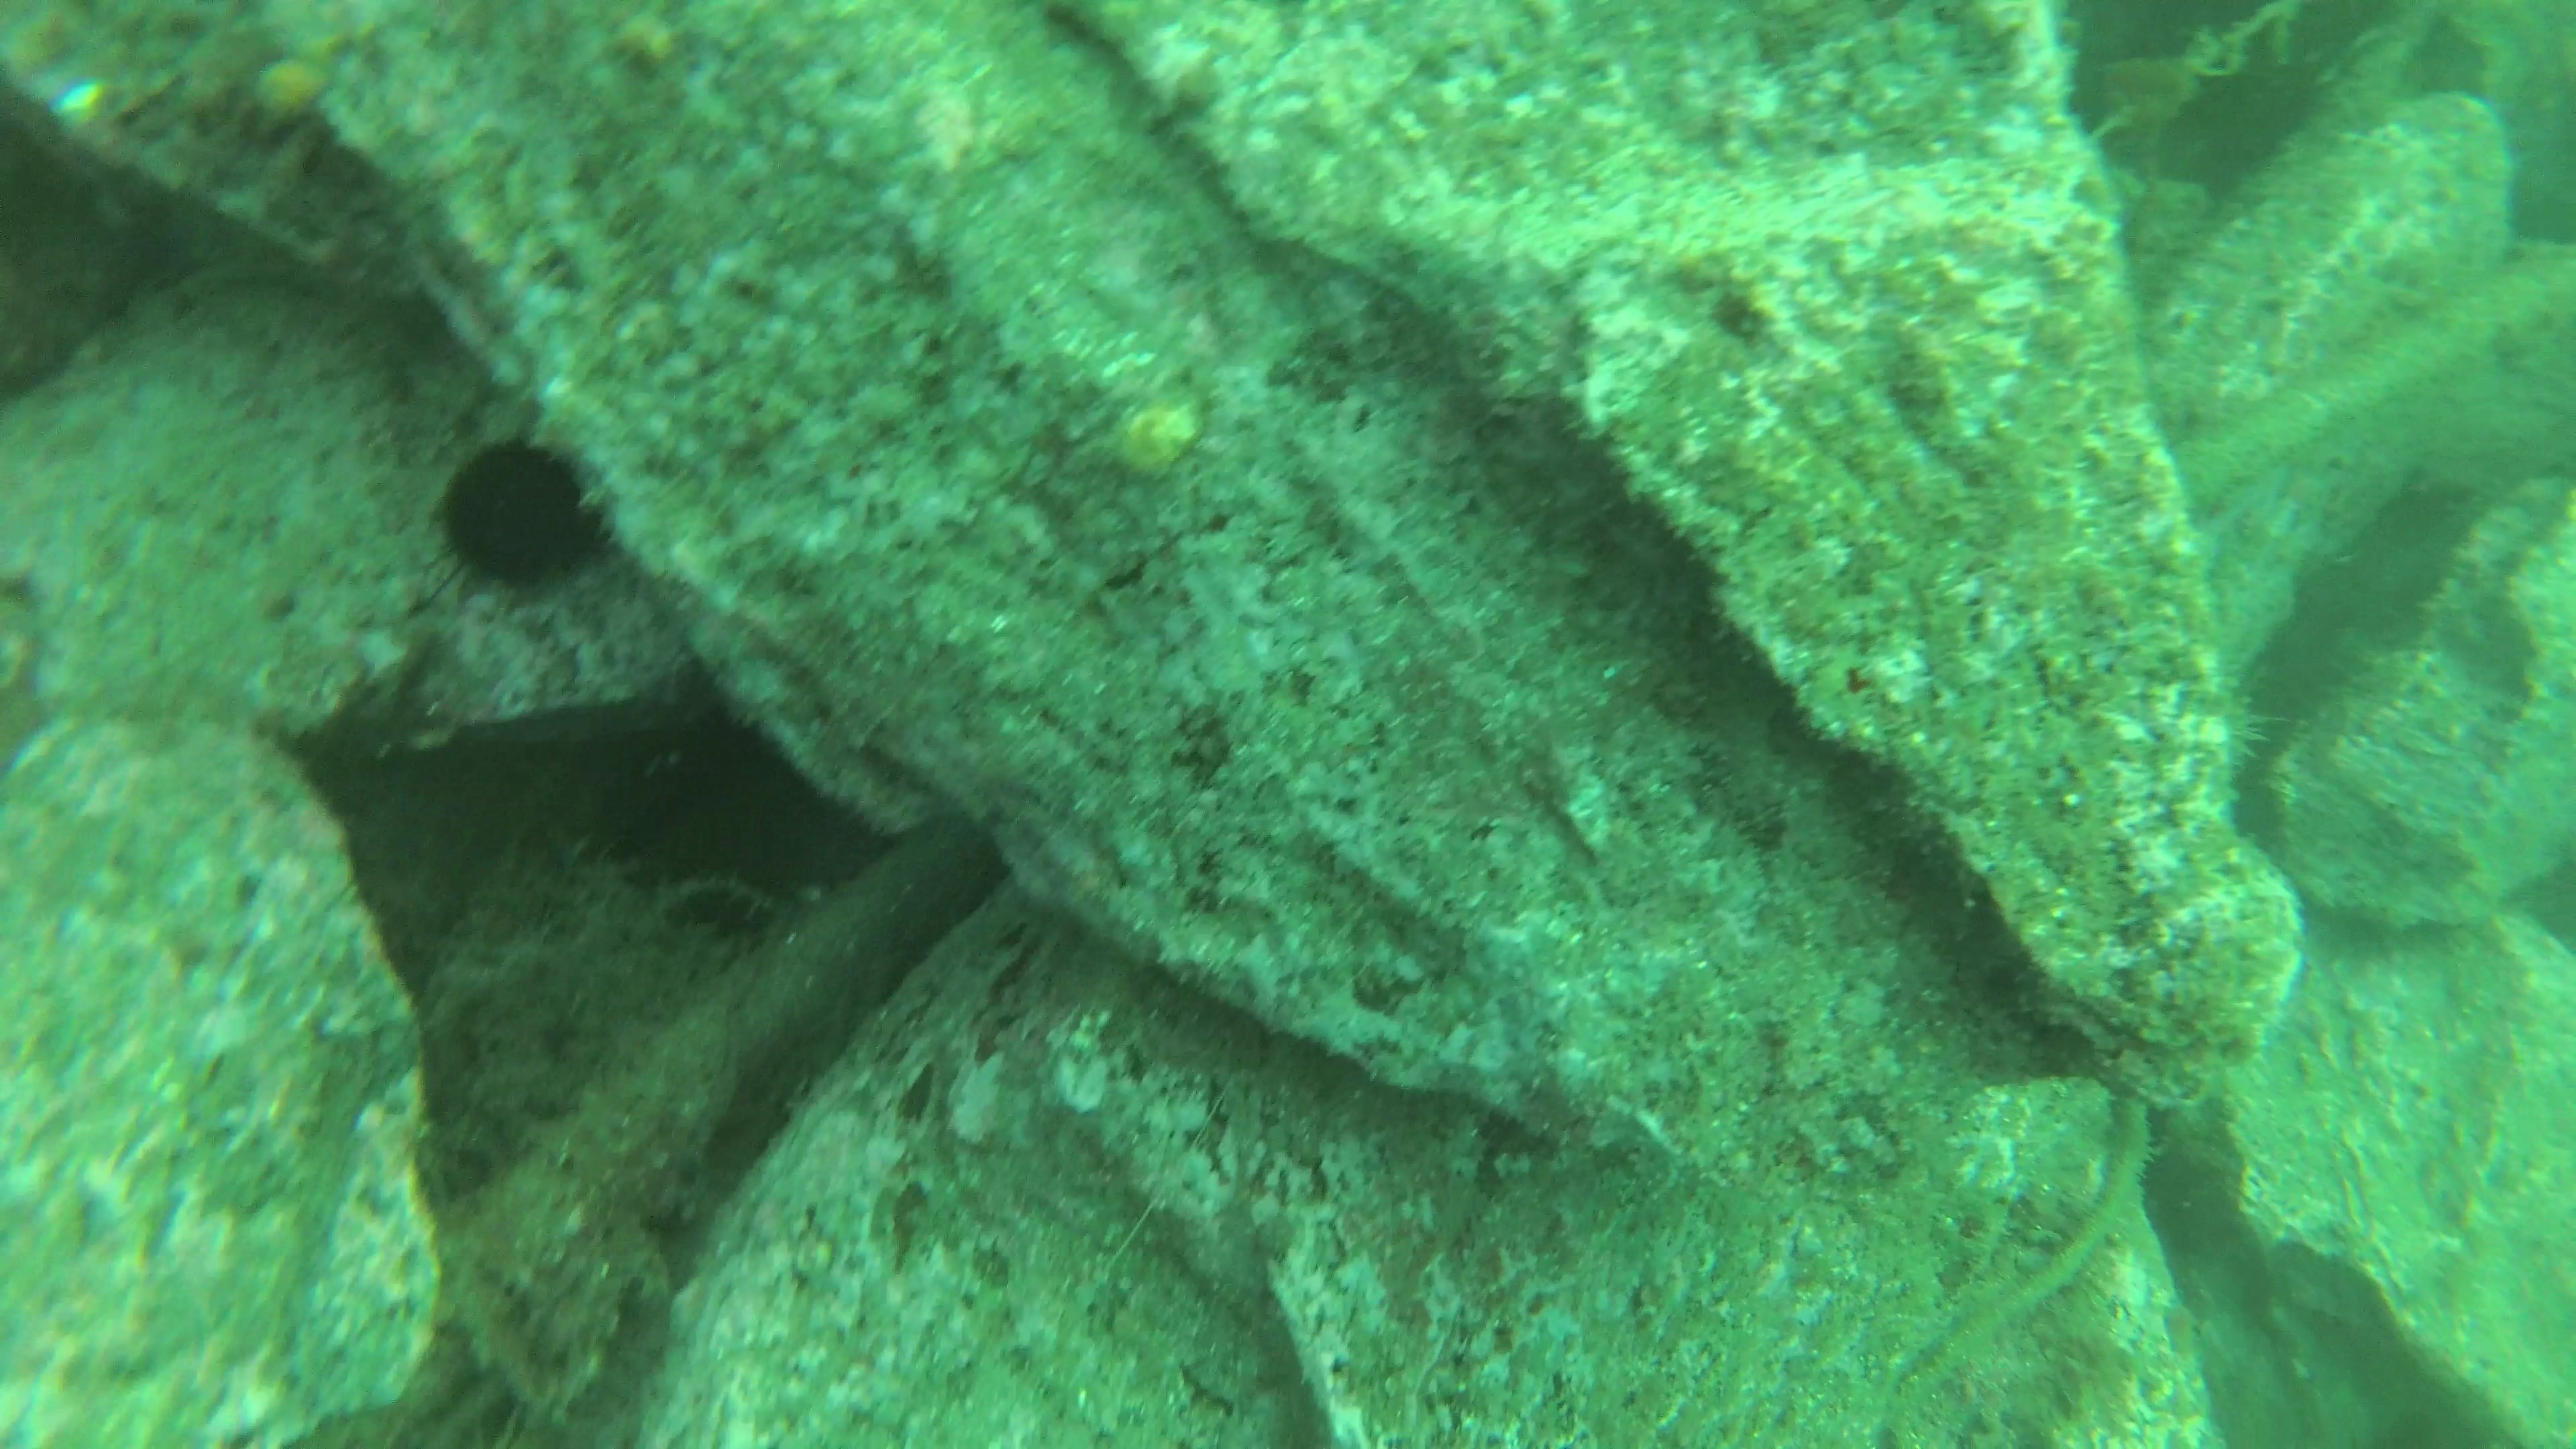echinus: (425, 428, 621, 600)
